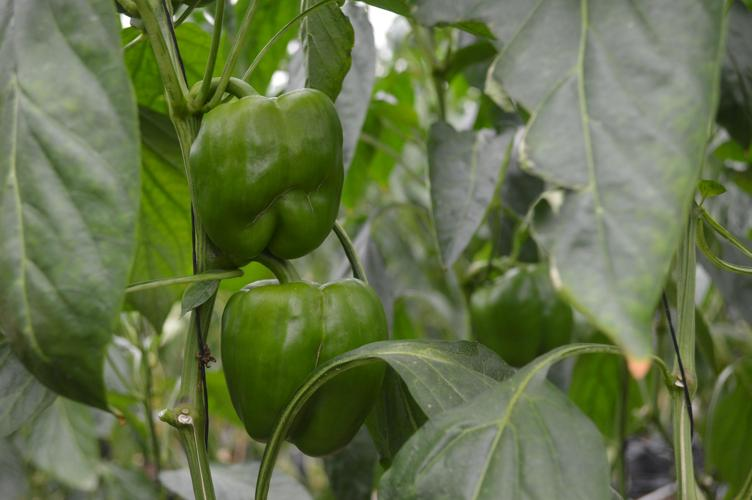BellPepper: (219, 279, 389, 459), (188, 87, 348, 261), (463, 260, 578, 357)
